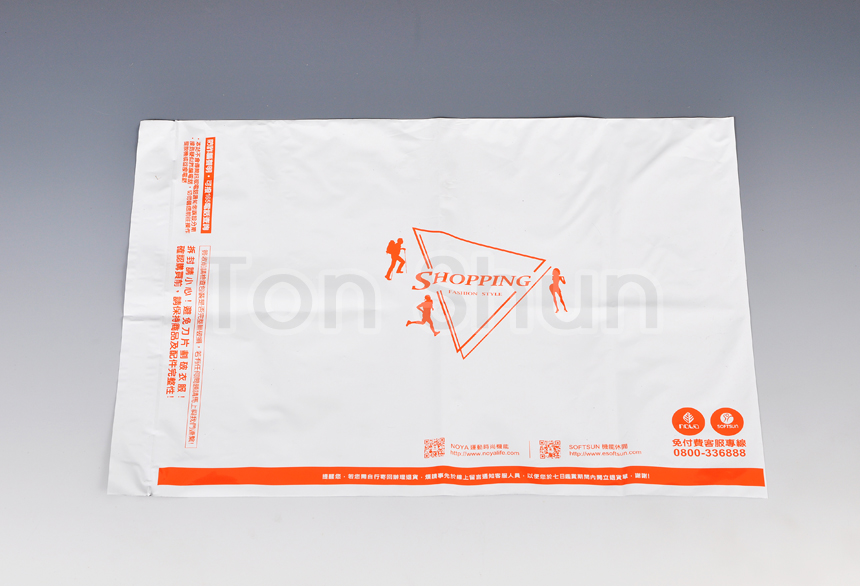Parcel: (108, 118, 764, 496)
